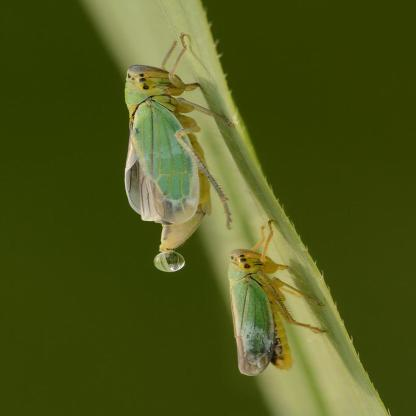Green-Leafhopper: (122, 32, 237, 247), (219, 221, 317, 384)
